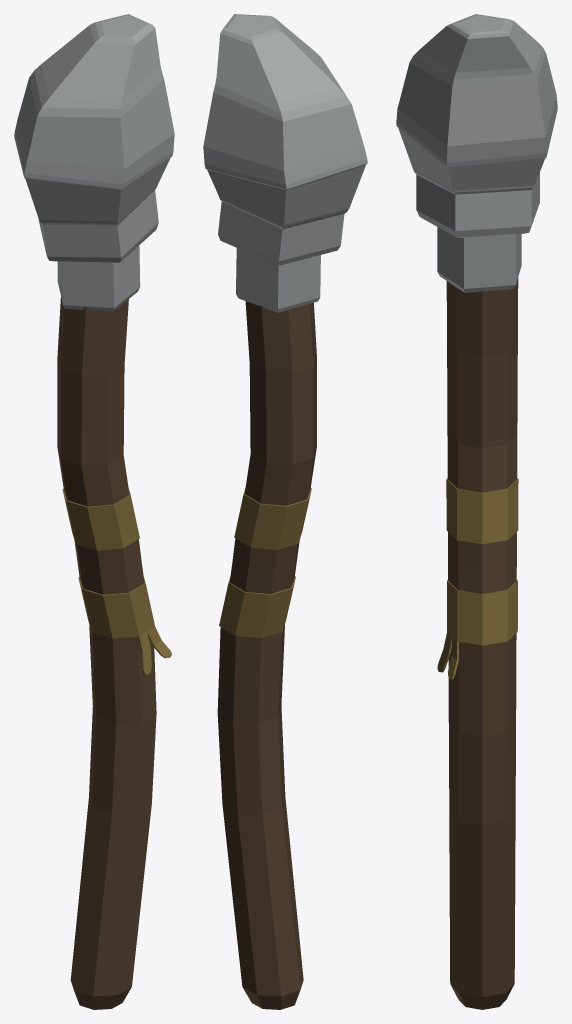
File: torch.glb
The picture shows the model from 3 angles, left to right: view 1: azimuth 30°, elevation 25°; view 2: azimuth 150°, elevation 25°; view 3: azimuth 270°, elevation 25°; orthographic projection.
Parts seen in each view (by area): view 1: Torch; view 2: Torch; view 3: Torch.
Part boxes in pixels (left/top/right/bottom): Torch: left=14, top=14, right=174, bottom=1009; Torch: left=203, top=14, right=367, bottom=1009; Torch: left=396, top=14, right=557, bottom=1009.
Bounding box in the file's own units: 1.07 × 7.02 × 1.03.
